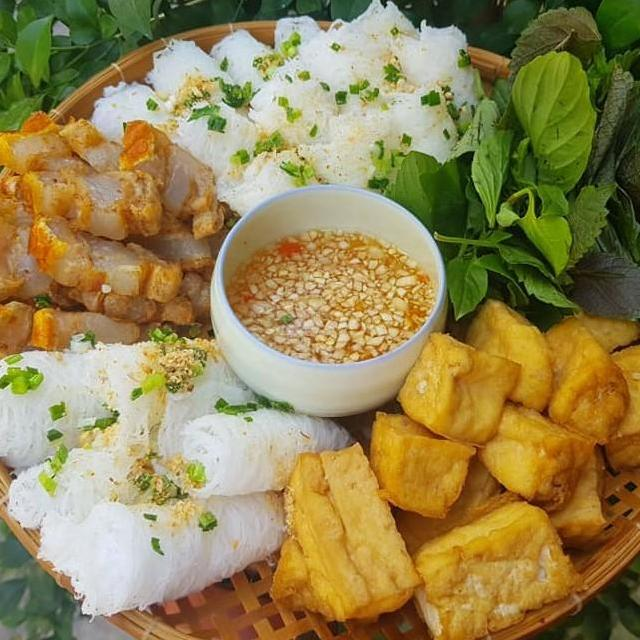banh hoi: (33, 479, 292, 625), (71, 327, 276, 500), (172, 399, 363, 504), (0, 433, 189, 538), (0, 344, 143, 475), (269, 0, 423, 120), (382, 12, 497, 141), (290, 93, 417, 204), (241, 51, 366, 149), (205, 127, 328, 222), (162, 91, 282, 186), (369, 79, 472, 181), (78, 76, 192, 159), (141, 35, 252, 116), (202, 24, 300, 107)
banh hoi heo quay: (0, 17, 640, 640)
dau hu: (260, 438, 431, 627), (406, 495, 593, 640), (392, 325, 526, 454), (468, 391, 601, 518), (535, 309, 640, 447), (359, 406, 482, 523), (454, 293, 557, 416), (529, 437, 620, 554), (592, 332, 640, 476)
thit heo quay: (0, 164, 115, 313), (113, 116, 238, 252), (23, 213, 191, 310), (13, 162, 168, 244), (0, 106, 135, 191), (0, 297, 142, 375)
